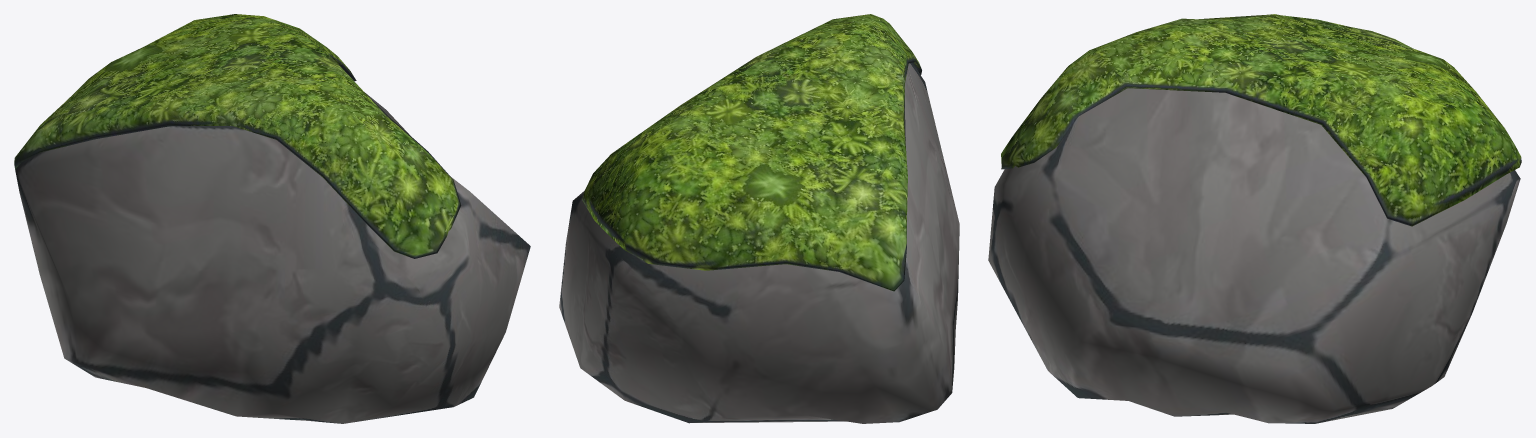
The model's file is SM_Slimy Moss.fbx.
3 views of the same model, side by side, from view 1: azimuth 30°, elevation 25°; view 2: azimuth 150°, elevation 25°; view 3: azimuth 270°, elevation 25° (orthographic). The views are drawn at different scales.
Parts seen in each view (by area): view 1: L_Stone 2, L_lumut.001; view 2: L_Stone 2, L_lumut.001; view 3: L_Stone 2, L_lumut.001.
Boxes of the visible parts, x1,y1,x2,y2 form: L_Stone 2: [15, 92, 530, 423]; L_lumut.001: [14, 14, 461, 258]; L_Stone 2: [559, 63, 959, 423]; L_lumut.001: [582, 14, 921, 291]; L_Stone 2: [988, 88, 1520, 423]; L_lumut.001: [1001, 14, 1521, 226].
Bounding box in the file's own units: 208 × 151 × 236.
